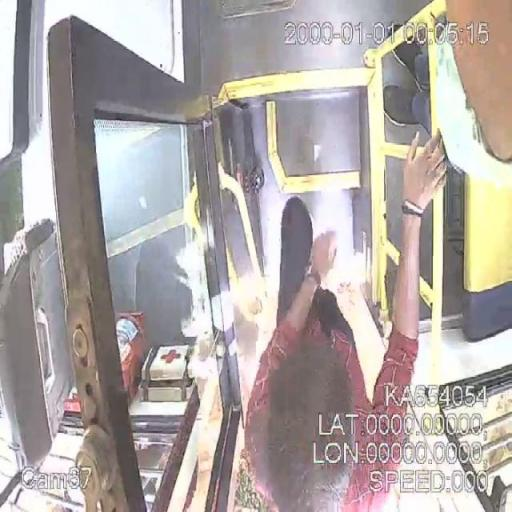persona: (243, 128, 449, 511)
